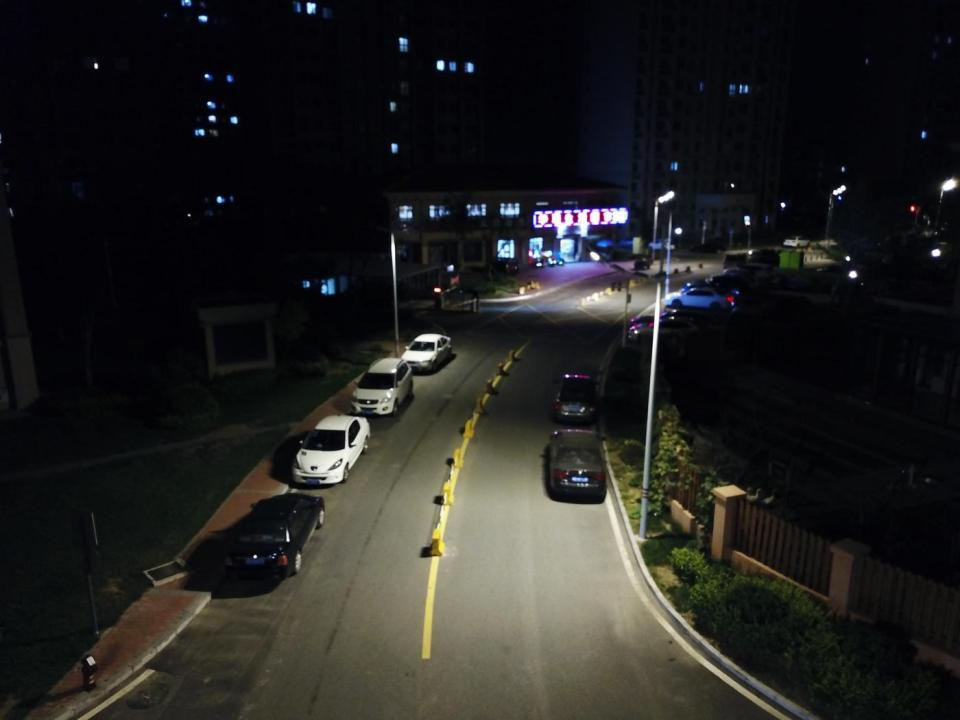car: (220, 490, 330, 580), (289, 413, 371, 485), (544, 423, 611, 502), (348, 358, 418, 419), (550, 370, 598, 426), (625, 316, 703, 347), (398, 333, 453, 375), (628, 312, 709, 336), (664, 287, 734, 312), (672, 282, 736, 308), (701, 273, 753, 295), (722, 268, 767, 292), (737, 262, 777, 280), (722, 250, 750, 272), (781, 234, 813, 250), (688, 241, 727, 254), (648, 237, 676, 253), (631, 253, 657, 270), (617, 235, 643, 250), (746, 246, 764, 262)
